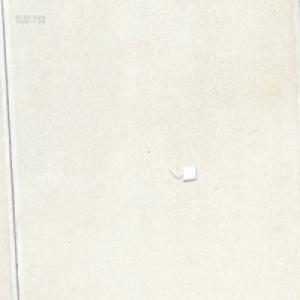LuggageTag: (167, 164, 196, 181)
